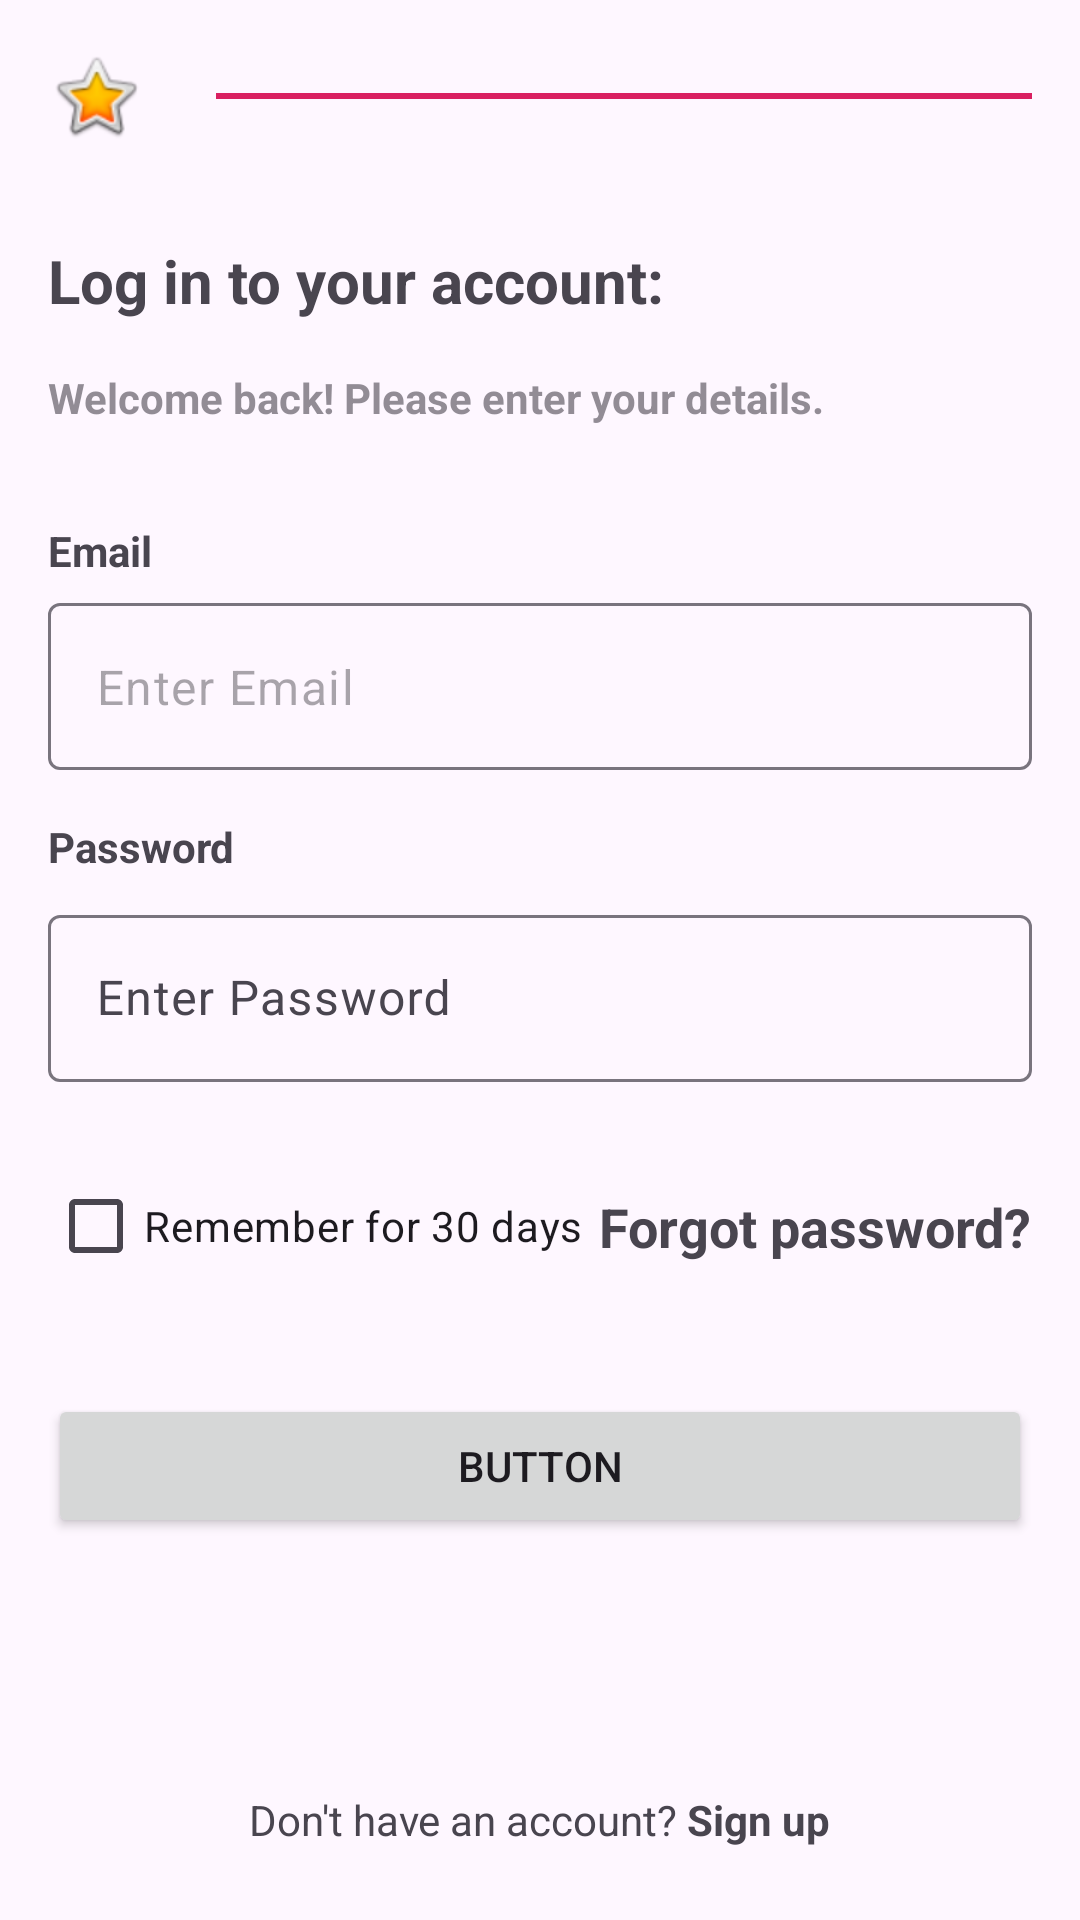

Named icons in this screenshot (1080x1920) and their bounding boxes, box(x1, y1, x2, y2):
star on: box(57, 58, 137, 136)
